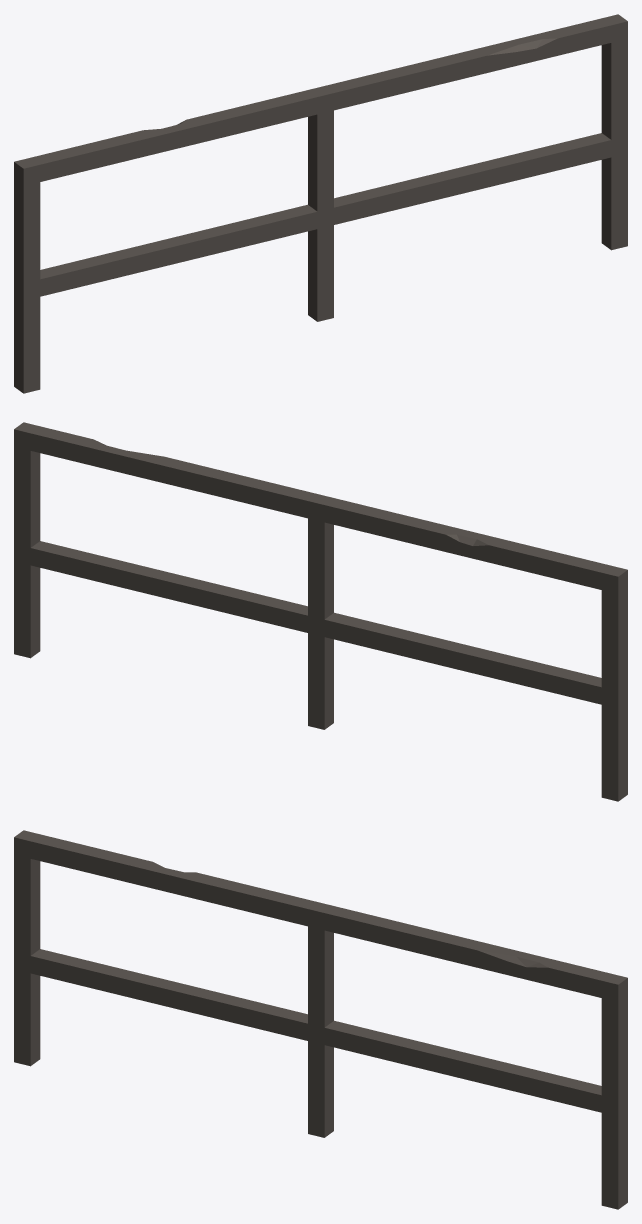
The model's file is Wh_Safety_Rail_Straight.fbx.
The picture shows the model from 3 angles, top to bottom: view 1: azimuth 30°, elevation 25°; view 2: azimuth 150°, elevation 25°; view 3: azimuth 330°, elevation 25°; orthographic projection.
Parts seen in each view (by area): view 1: Cube.955; view 2: Cube.955; view 3: Cube.955.
Boxes of the visible parts, x1,y1,x2,y2 form: Cube.955: [14, 14, 627, 393]; Cube.955: [14, 422, 627, 801]; Cube.955: [14, 830, 627, 1209].
Bounding box in the file's own units: 308 × 110 × 8.5.
